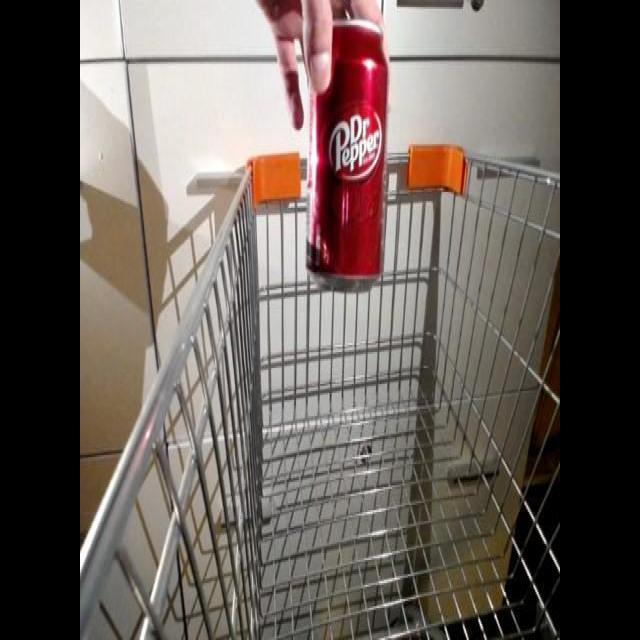Dr Pepper: (297, 18, 395, 297)
